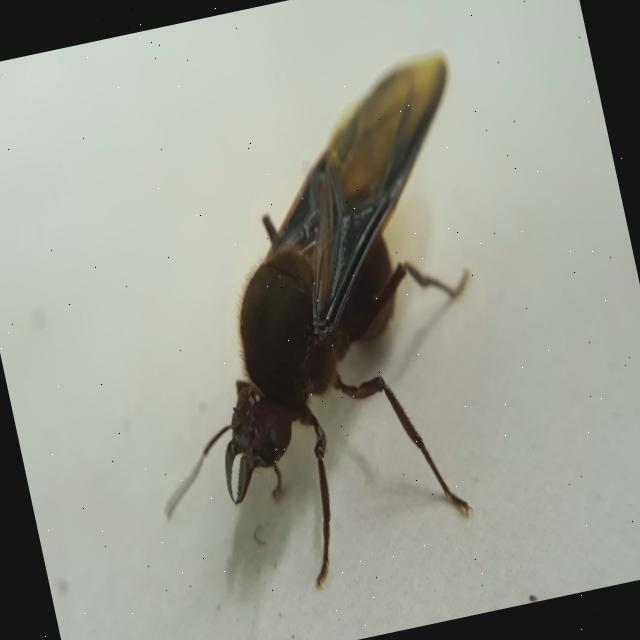Alive-Female-Alate: (84, 53, 546, 618)
